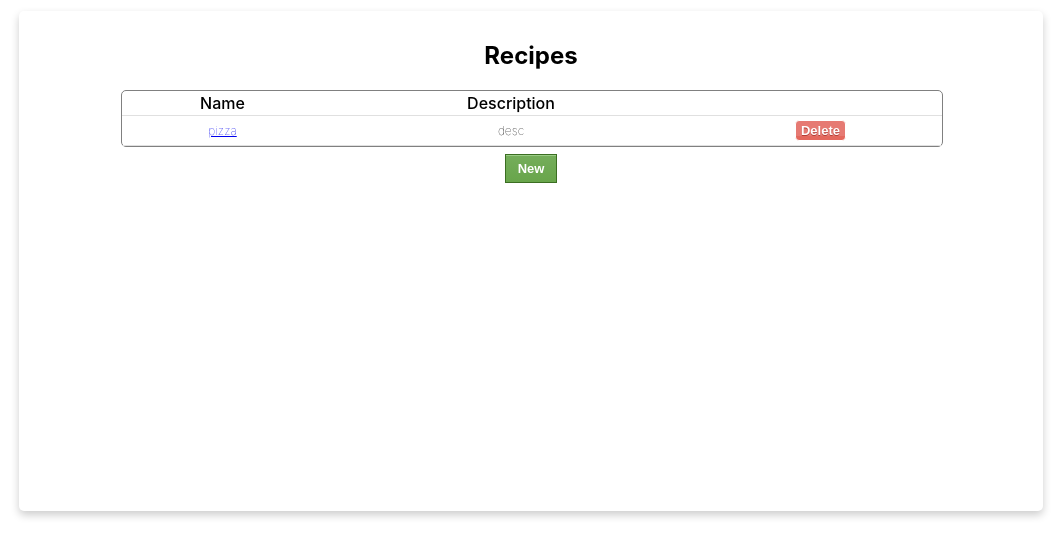
Test case: must detail a recipe
Click the link "pizza": [222, 130] box x1=208 y1=123 x2=237 y2=138
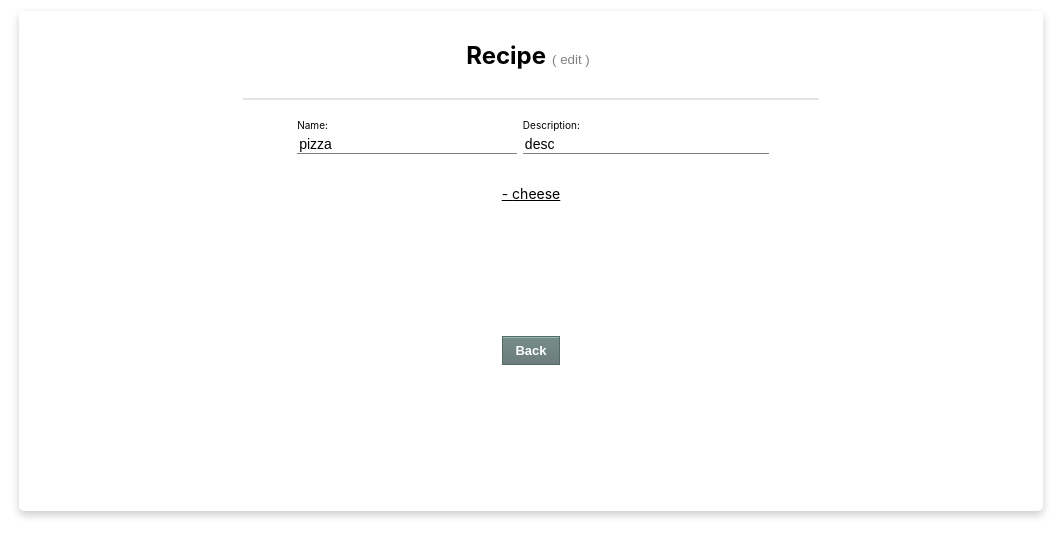
Result: the field showing "pizza" is shown at x1=297 y1=135 x2=517 y2=154
Result: the field showing "desc" is shown at x1=523 y1=135 x2=769 y2=154
